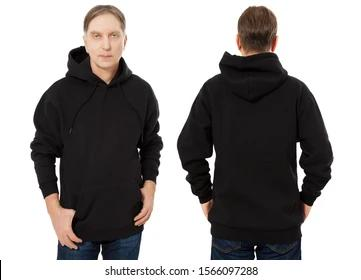sweater: (176, 49, 335, 239), (29, 44, 164, 243)
trousers: (209, 230, 302, 262), (56, 233, 142, 261)
